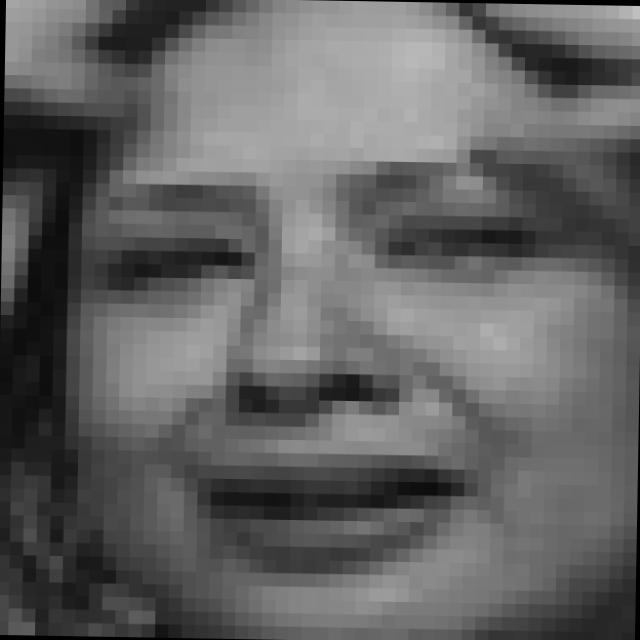sad: (86, 152, 569, 586)
